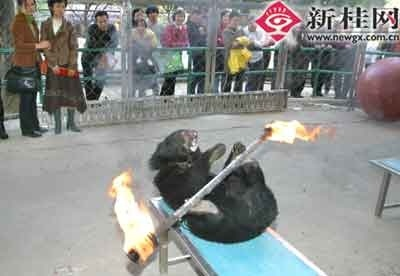fire: (107, 166, 158, 260), (261, 116, 328, 142)
